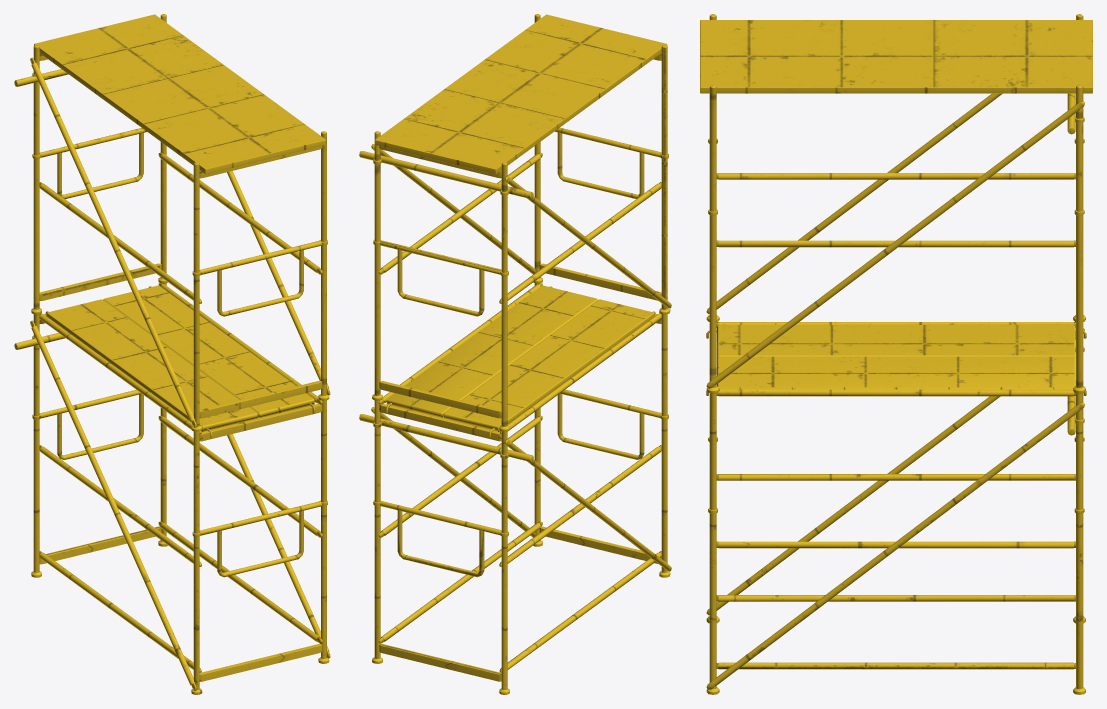
The picture shows the model from 3 angles, left to right: view 1: azimuth 30°, elevation 25°; view 2: azimuth 150°, elevation 25°; view 3: azimuth 270°, elevation 25°; orthographic projection. The views are drawn at different scales.
Parts seen in each view (by area): view 1: Scaffold_3.001; view 2: Scaffold_3.001; view 3: Scaffold_3.001.
Boxes of the visible parts, box(x1,y1,x2,y2) form: Scaffold_3.001: box(14, 14, 330, 694); Scaffold_3.001: box(359, 14, 671, 694); Scaffold_3.001: box(700, 14, 1092, 694).
Bounding box in the file's own units: 1.27 × 3.73 × 2.19.
